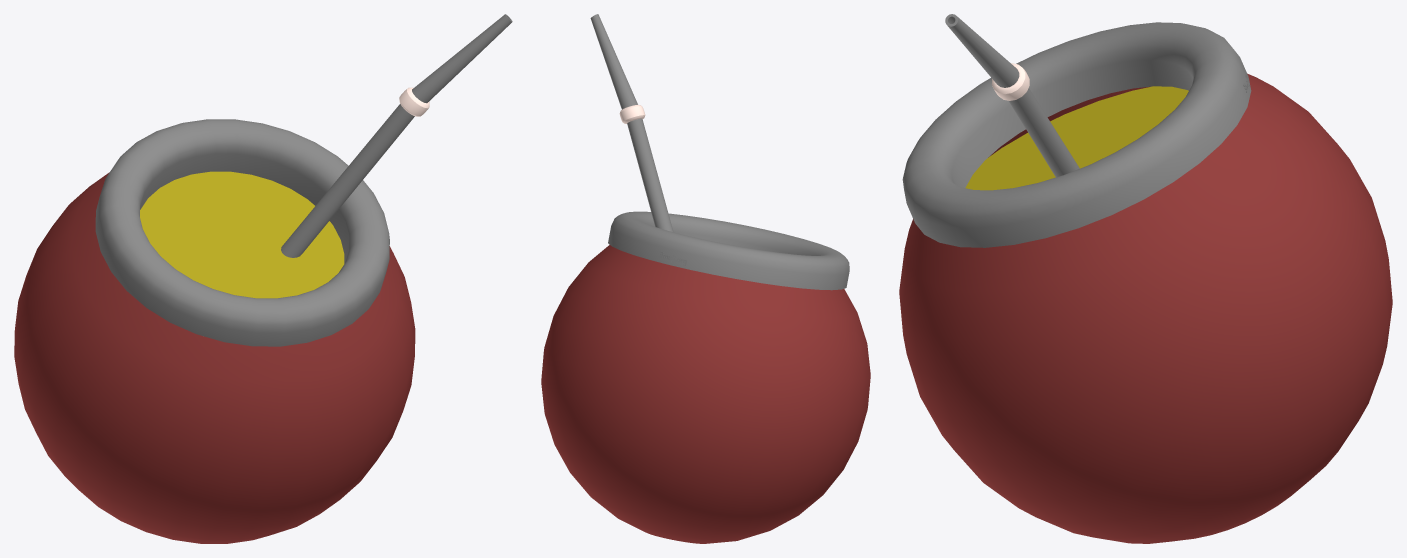
Rendered from mate.gltf.
3 renders of one model, left to right at view 1: azimuth 30°, elevation 25°; view 2: azimuth 150°, elevation 25°; view 3: azimuth 270°, elevation 25°, orthographic. The views are drawn at different scales.
Visible parts, largest first — view 1: Sphere.504; view 2: Sphere.504; view 3: Sphere.504.
Part boxes in pixels (bbox=[...]): Sphere.504: bbox=[14, 14, 512, 543]; Sphere.504: bbox=[541, 14, 870, 543]; Sphere.504: bbox=[899, 14, 1392, 543].
Size of the model in its own units: 1.66 by 2.09 by 1.47.
Materials: 1 (1 with a texture image).
